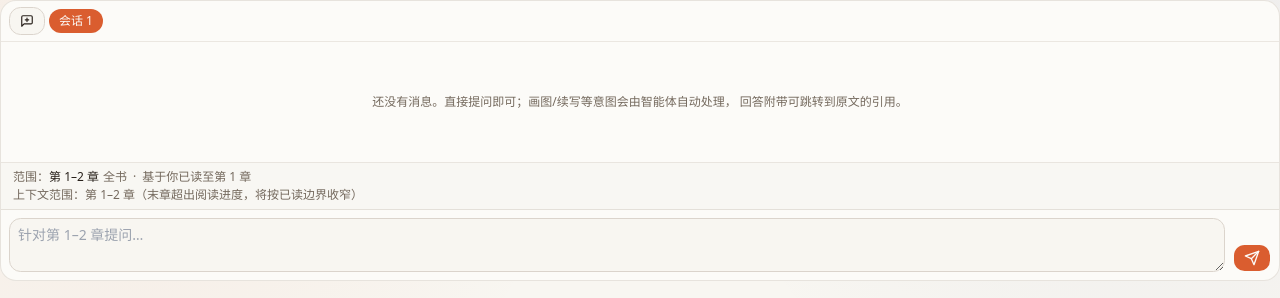
Test case: AnalysisUnifiedChat › sends ordinary questions through reader_chat with a chapter_range anchor
Check: the text with test id "analysis-chat-boundary" reads "基于你已读至第 1 章", box top-left (142, 168), bottom-right (251, 185)
Type "主角是谁？" into the text box with test id "analysis-chat-input" at (617, 245), box top-left (9, 218), bottom-right (1225, 272)
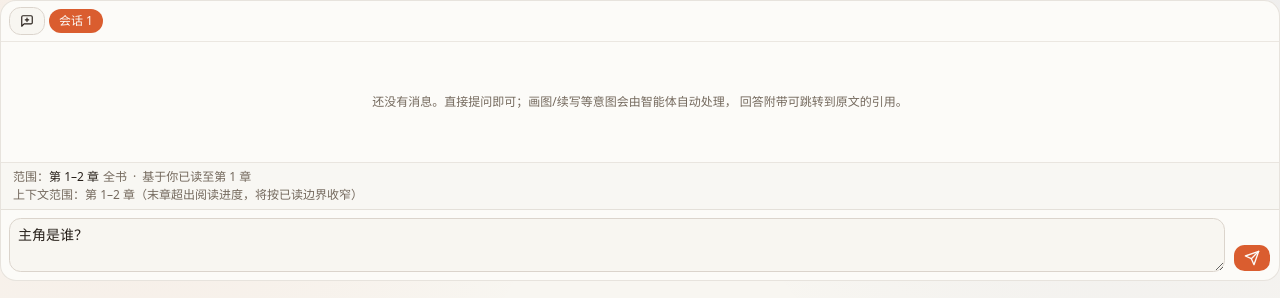
Click the button with test id "analysis-chat-send" at (1252, 258), box top-left (1233, 244), bottom-right (1271, 272)
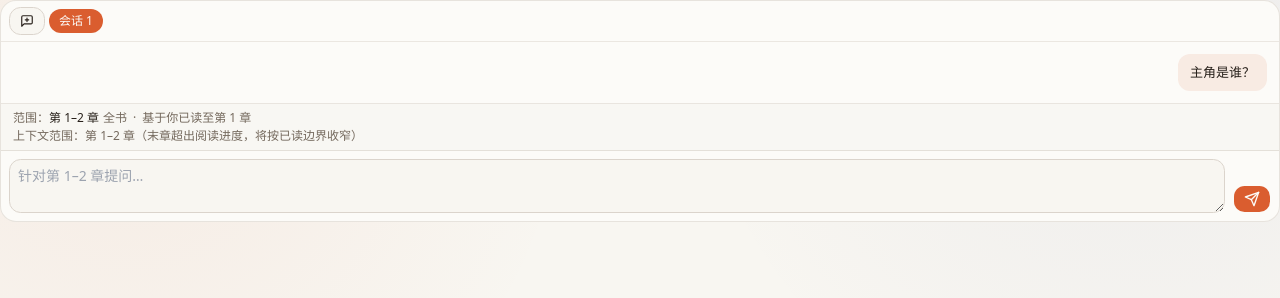
Check: the text "主角是谁？" is shown, box top-left (1190, 62), bottom-right (1255, 83)
